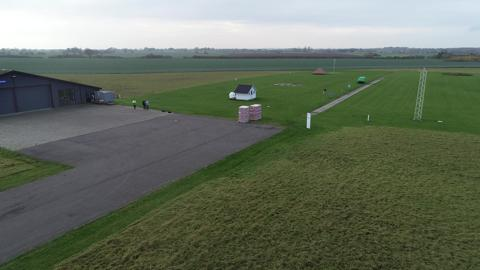RockwoolPallet: (250, 104, 262, 121)
